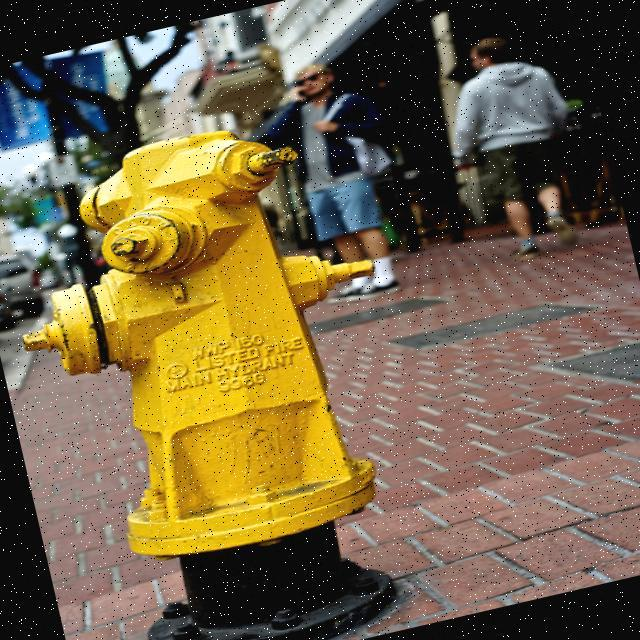fire_hydrant: (0, 85, 458, 640)
